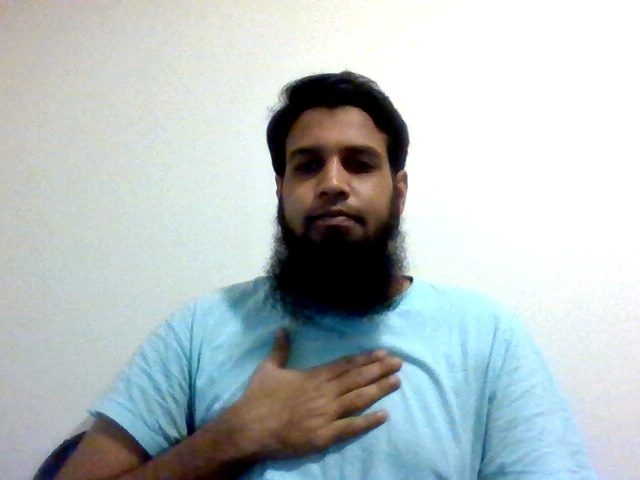please: (229, 326, 409, 462)
